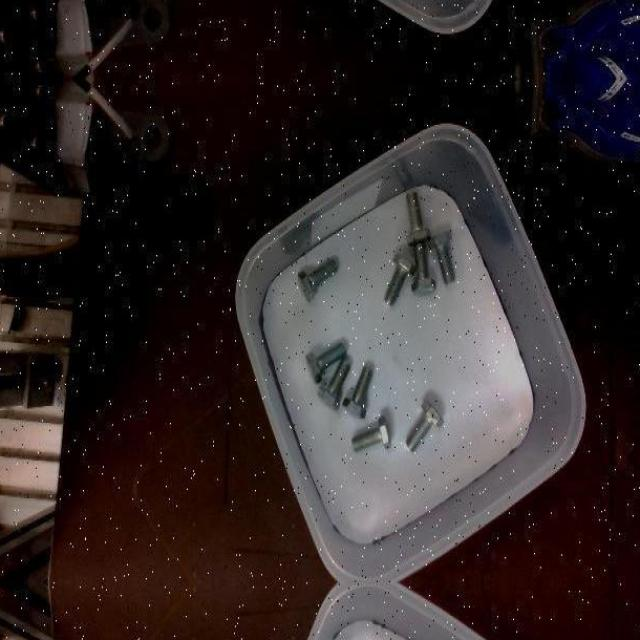screw: (405, 399, 444, 452), (395, 192, 431, 247), (317, 358, 351, 410), (297, 258, 337, 302), (384, 252, 417, 305), (306, 342, 346, 384), (342, 365, 372, 418), (350, 414, 390, 452), (427, 231, 455, 285), (410, 242, 436, 296)
